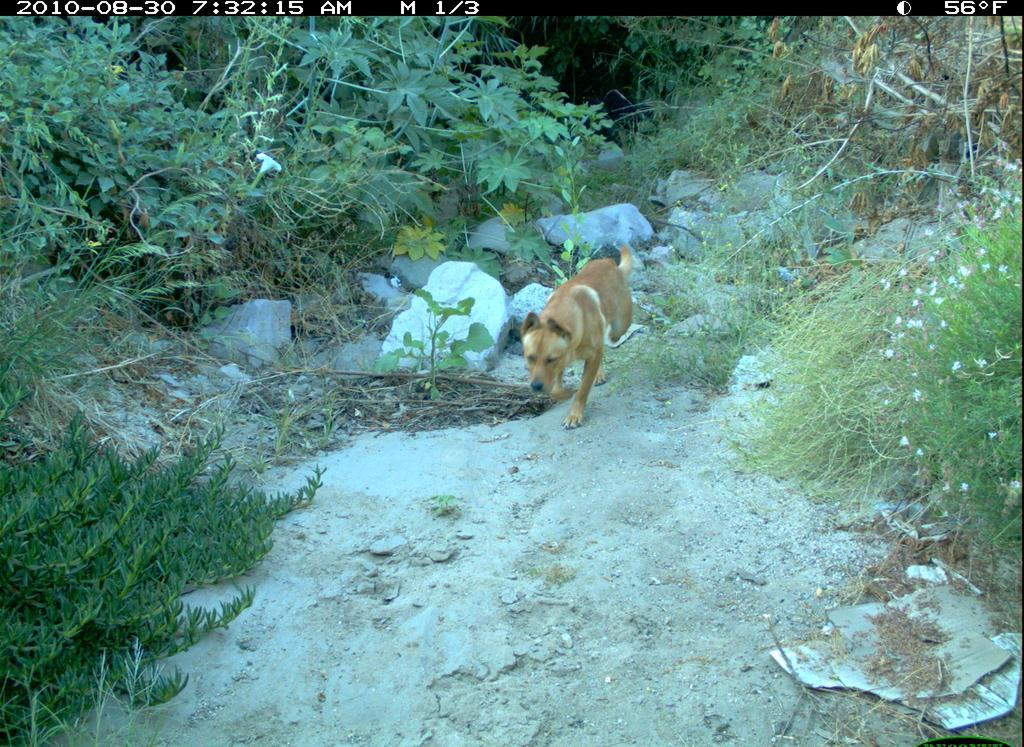dog: (514, 237, 646, 431)
